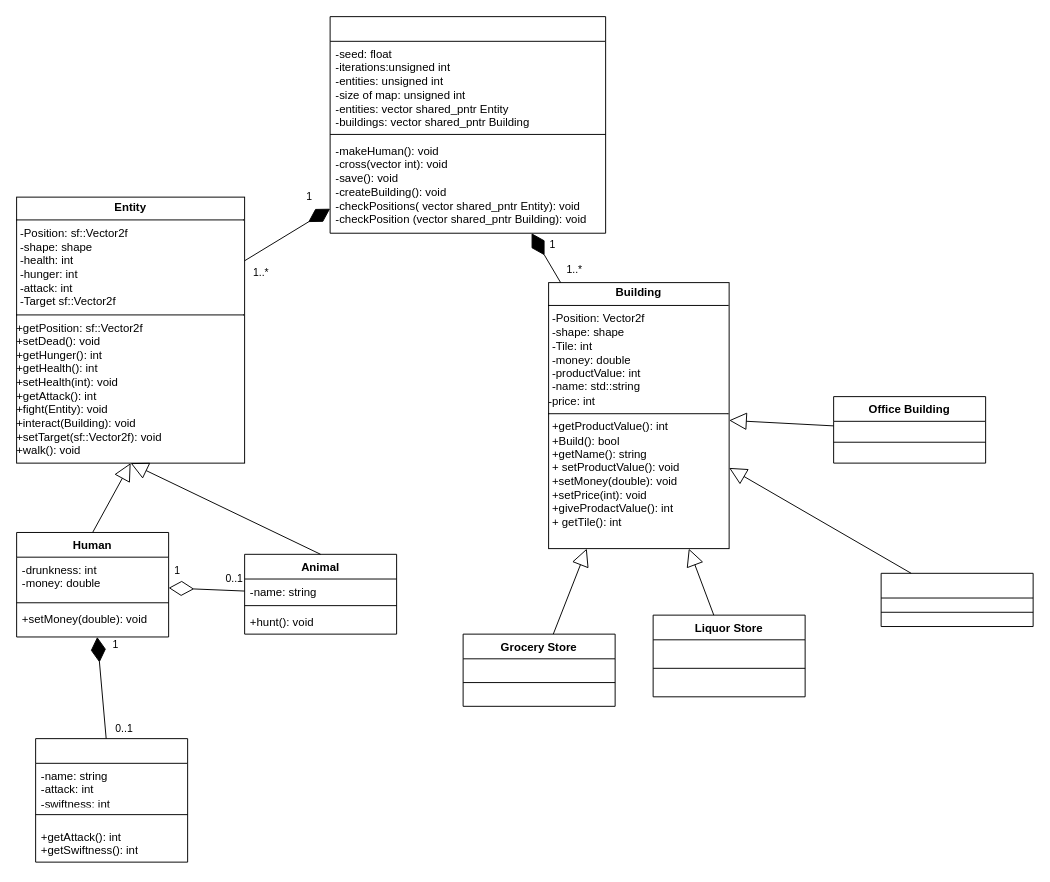
This 1050x882 diagram has some shape labels left out. The box of each missing label's shape, as (x1, y1, x2, y2) in pixels:
City: (329, 16, 606, 233)
Hospital: (880, 572, 1033, 627)
Item: (35, 738, 188, 862)
